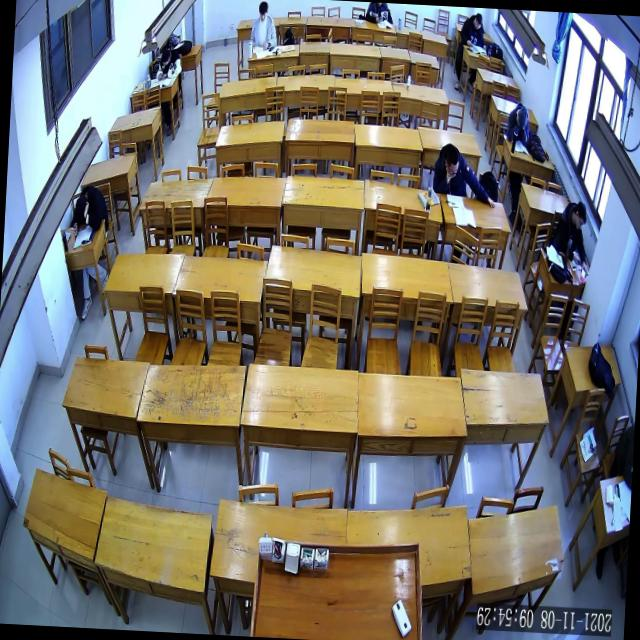bow: (72, 185, 110, 238)
down: (444, 146, 460, 178), (574, 202, 588, 230), (74, 196, 88, 220), (258, 1, 269, 22), (160, 48, 170, 66), (474, 13, 483, 30)
sit: (432, 143, 498, 208), (554, 200, 590, 267), (250, 1, 279, 52), (459, 12, 488, 51), (506, 102, 531, 146), (156, 48, 182, 82)
